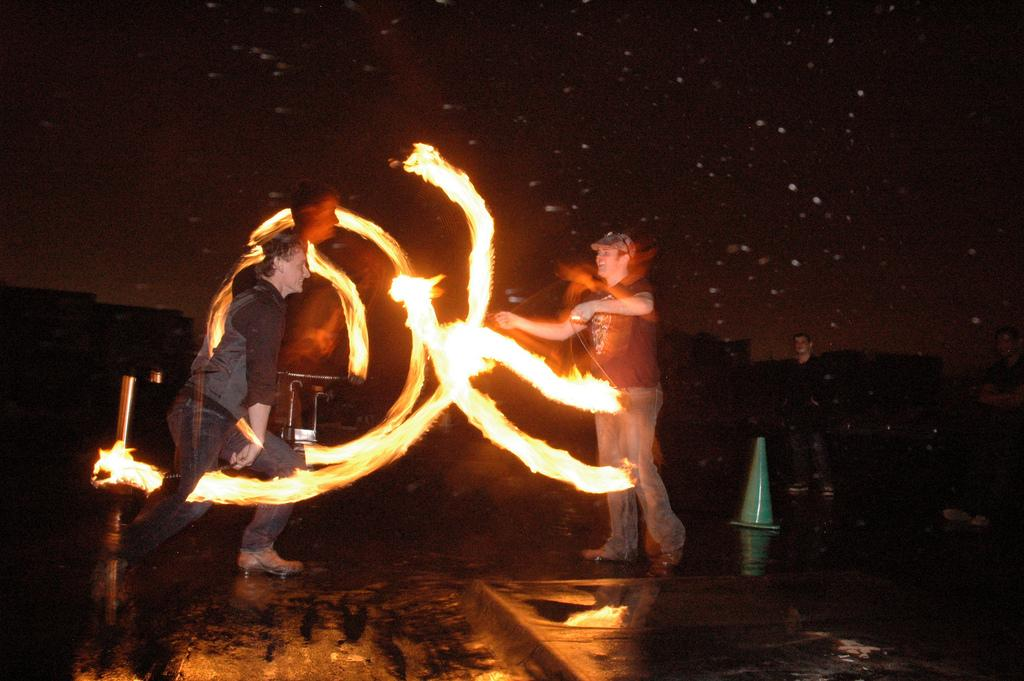fire: (378, 270, 513, 430)
